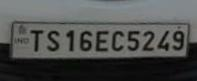1: (64, 26, 76, 54)
2: (141, 28, 156, 52)
4: (156, 29, 171, 53)
5: (126, 29, 141, 53)
6: (79, 28, 93, 53)
9: (173, 28, 186, 53)
C: (111, 28, 124, 52)
E: (95, 28, 110, 53)
S: (46, 28, 61, 53)
T: (28, 27, 44, 54)
